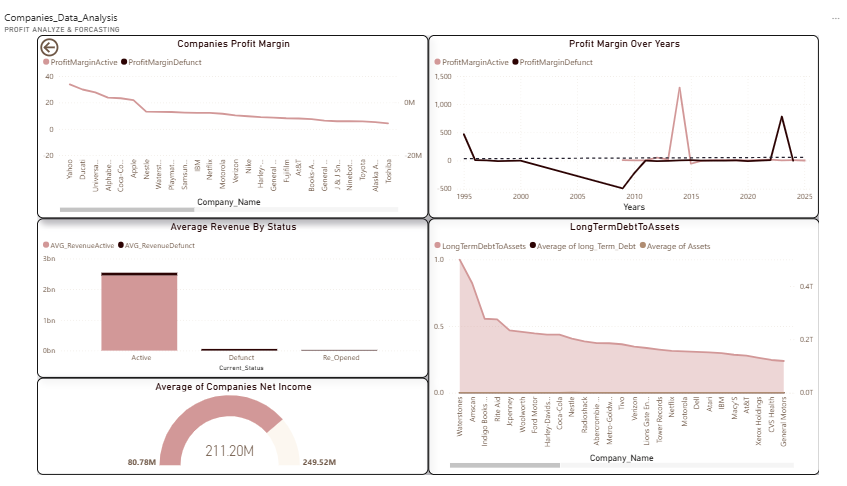

What the dashboard file says about the page in this screenshot:
{"tool":"powerbi","page":{"name":"Profit Analyze & Forcasting","canvas":[1280,720],"ordinal":1},"visuals":[{"type":"columnChart","title":"Average Revenue By Status","fields":{"Category":["companies_mergedData.Current_Status"],"Y":["companies_mergedData.AVG_RevenueActive","companies_mergedData.AVG_RevenueDefunct"]},"box":[0,300.1,640,260.4],"z":0},{"type":"lineChart","title":"Companies Profit Margin","fields":{"Category":["companies_mergedData.Company_Name"],"Y2":["companies_mergedData.ProfitMarginDefunct"],"Y":["companies_mergedData.ProfitMarginActive"]},"box":[0,0,640.8,300.2],"z":1000},{"type":"lineChart","title":"Profit Margin Over Years","fields":{"Category":["companies_mergedData.Years"],"Y":["companies_mergedData.ProfitMarginActive","companies_mergedData.ProfitMarginDefunct"]},"box":[640.8,0,639.2,300.2],"z":2000},{"type":"gauge","title":"Average of Companies Net Income ","fields":{"Y":["Avg(companies_mergedData.Net_Income)"],"MinValue":["companies_mergedData.AVG_NetIncomeDefunct"],"MaxValue":["companies_mergedData.AVG_NetIncomeActive"]},"box":[0,560.6,640,158.8],"z":3000},{"type":"areaChart","title":"LongTermDebtToAssets ","fields":{"Y":["companies_mergedData.LongTermDebtToAssets"],"Category":["companies_mergedData.Company_Name"],"Y2":["Avg(companies_mergedData.long_Term_Debt)","Avg(companies_mergedData.Assets)"]},"box":[640,300.1,640,419.3],"z":4000},{"type":"actionButton","box":[0,0,100,40],"z":5000}]}

Visuals, with their boxes in screenshot pixels (x1, y1, x2, y2), scaled from the page's 1280x720 canvas onto the 847x486 screenshot:
"Average Revenue By Status" columnChart: {"x1": 0, "y1": 203, "x2": 424, "y2": 378}
"Companies Profit Margin" lineChart: {"x1": 0, "y1": 0, "x2": 424, "y2": 203}
"Profit Margin Over Years" lineChart: {"x1": 424, "y1": 0, "x2": 846, "y2": 203}
"Average of Companies Net Income " gauge: {"x1": 0, "y1": 378, "x2": 424, "y2": 485}
"LongTermDebtToAssets " areaChart: {"x1": 424, "y1": 203, "x2": 846, "y2": 485}
actionButton: {"x1": 0, "y1": 0, "x2": 66, "y2": 27}
